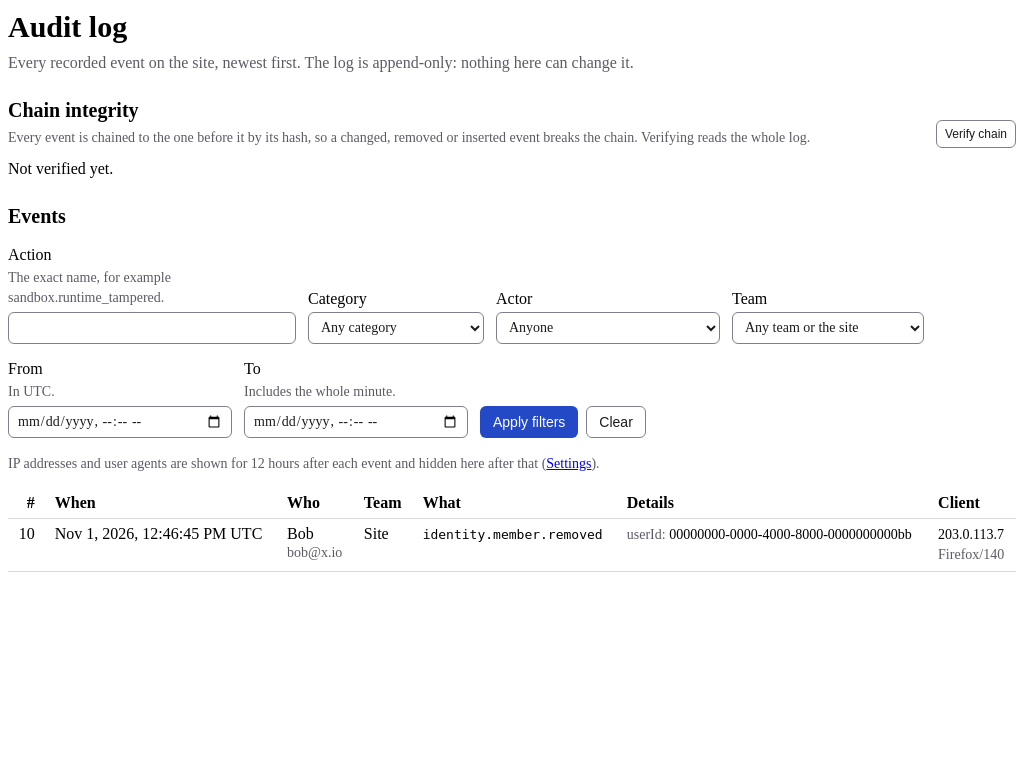
Test case: Site audit log (KOBE-291) › names the first broken event, and keeps it when the rate limit refuses a new check
What coordinates should you click on to do the following:
click the button "Verify chain"
I would click on:
 (976, 134)
Its box is 936,120 -> 1016,148.
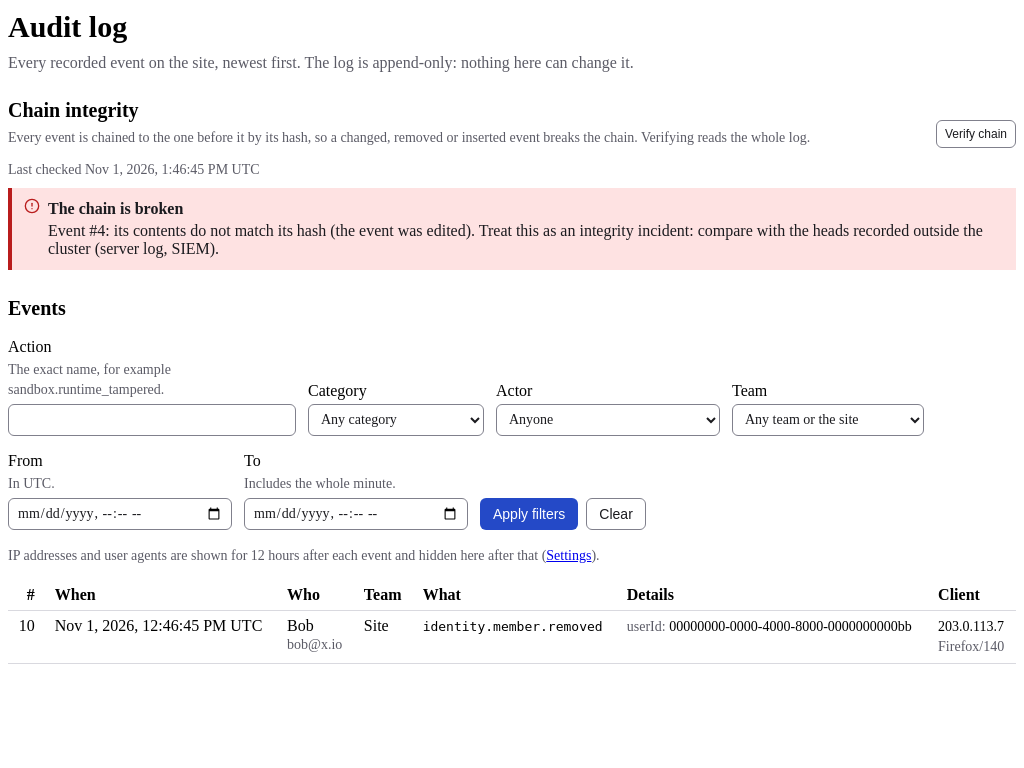
Check: the element that starts with "The chain is broken" is shown, box 48,200 -> 183,216
Check: the element that starts with "The chain is broken" shows "Event #4: its contents do not match its hash", box 48,222 -> 475,238
Check: the element "Chain integrity" shows "Last checked", box 8,162 -> 85,176
What coordinates should you click on to do the following:
click the button "Verify chain"
I would click on:
 (976, 134)
Its box is 936,120 -> 1016,148.
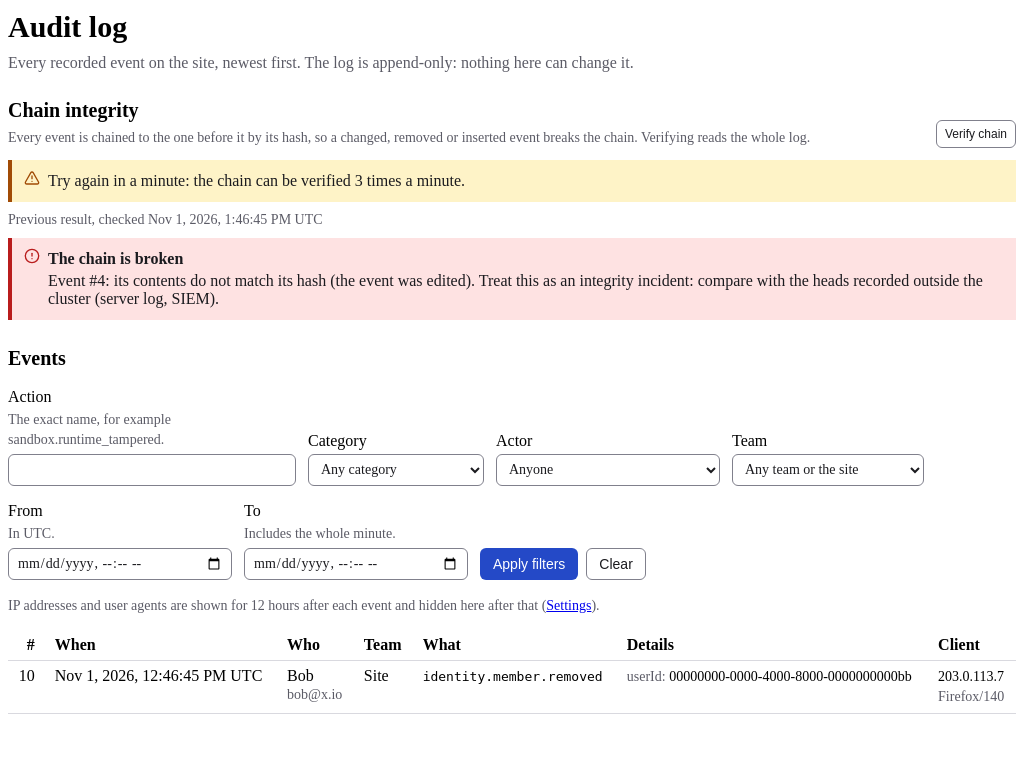
Check: the element "Chain integrity" shows "Event #4", box 48,272 -> 475,288
Check: the text "Try again in a minute" is shown 2 times
Check: the element "Chain integrity" shows "Previous result, checked", box 8,212 -> 148,226
